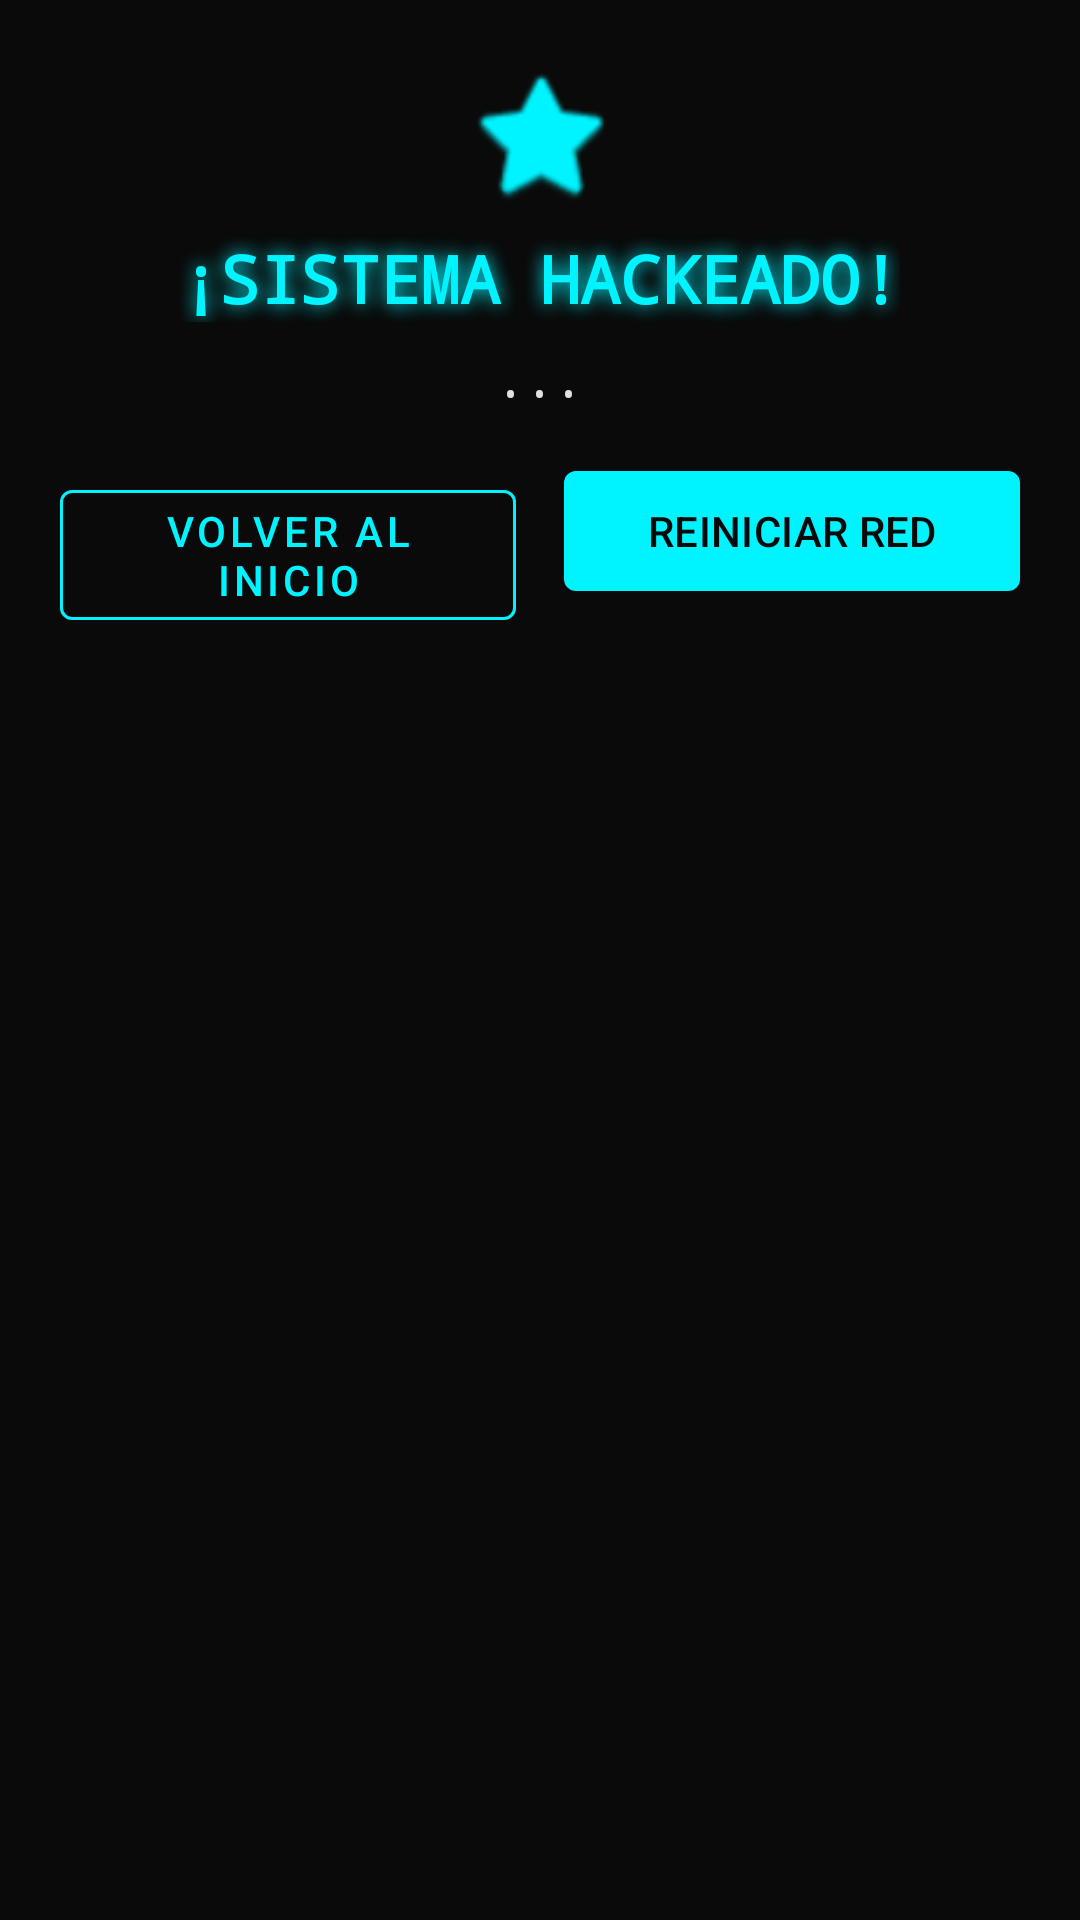

Locate icon controls on the screen. Image size 1080x1920, boxes as (x1, y1, x2, y2).
star on: (478, 75, 604, 197)
